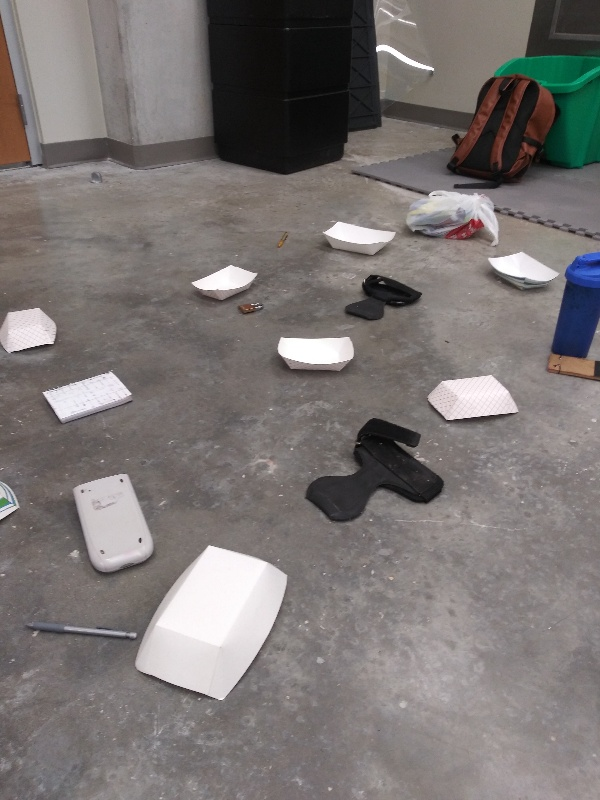plate: (130, 542, 291, 705), (424, 373, 524, 425), (481, 248, 563, 296), (274, 330, 360, 375), (319, 216, 400, 260), (1, 306, 62, 360), (187, 263, 262, 303), (1, 476, 24, 529)
